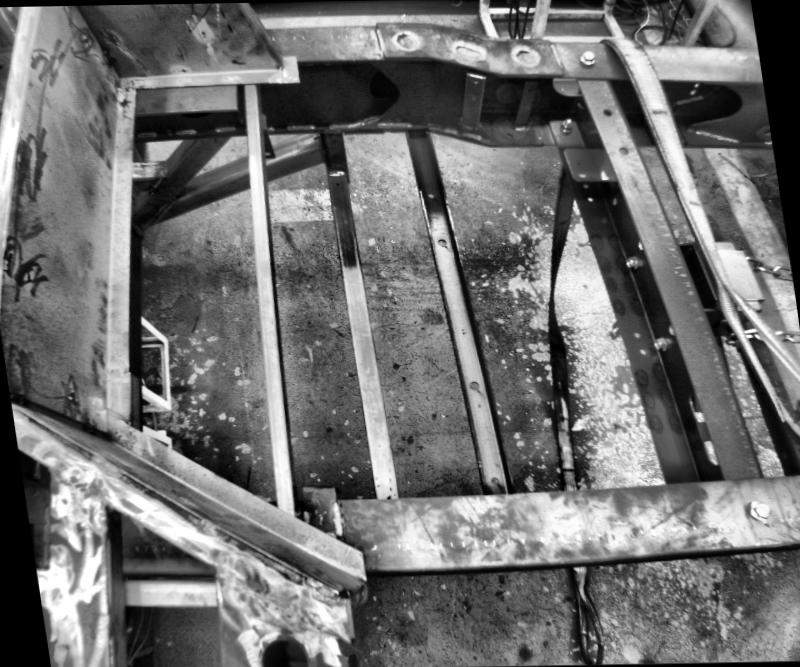bolt: (746, 500, 772, 521), (576, 50, 598, 70), (558, 119, 574, 136), (652, 336, 668, 351), (625, 256, 639, 270)
bracket: (296, 476, 353, 529), (500, 79, 542, 137), (452, 72, 490, 136), (559, 148, 617, 185), (255, 115, 280, 162)
hole: (252, 633, 314, 665), (465, 379, 481, 391), (488, 474, 499, 486), (600, 106, 610, 115), (618, 146, 628, 155), (630, 330, 642, 337), (424, 188, 433, 197), (436, 237, 446, 245), (636, 346, 644, 355), (332, 179, 340, 186), (574, 160, 580, 168), (264, 153, 272, 158), (310, 134, 317, 139)
